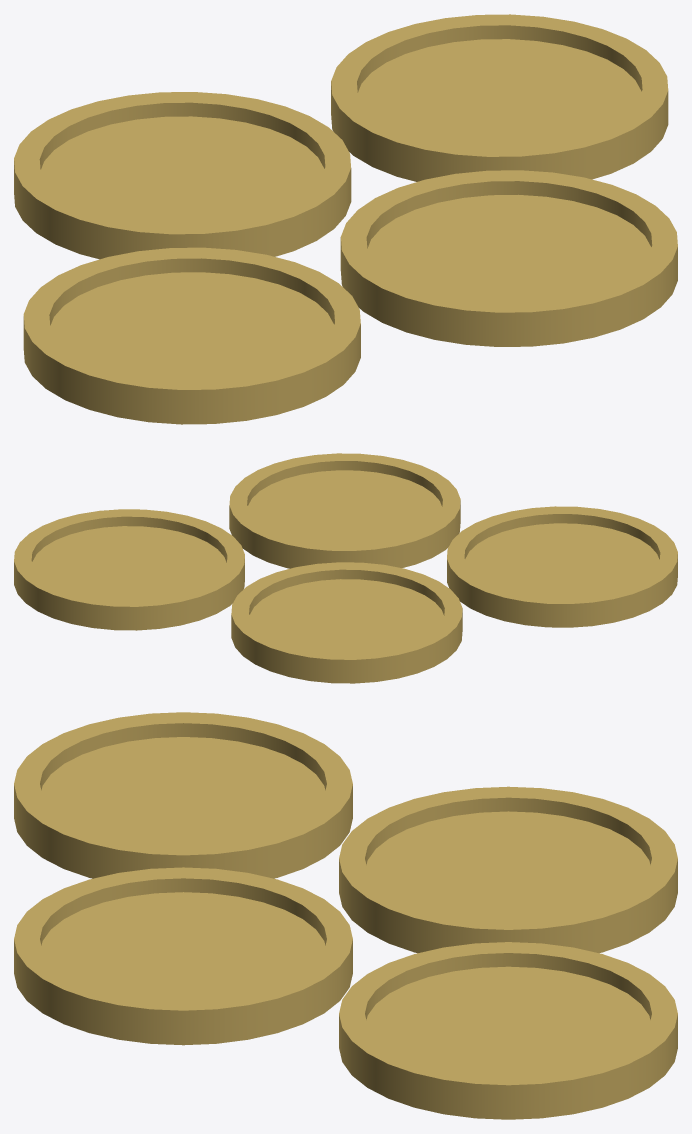
The model's file is SM_CoasterSet.fbx.
3 renders of one model, top to bottom at view 1: azimuth 30°, elevation 25°; view 2: azimuth 150°, elevation 25°; view 3: azimuth 270°, elevation 25°, orthographic. The views are drawn at different scales.
Parts seen in each view (by area): view 1: SM_CoasterSet; view 2: SM_CoasterSet; view 3: SM_CoasterSet.
Part boxes in pixels (bbox=[...]): SM_CoasterSet: bbox=[14, 14, 677, 424]; SM_CoasterSet: bbox=[14, 453, 677, 683]; SM_CoasterSet: bbox=[14, 712, 677, 1119].
Size of the model in its own units: 23.18 by 1 by 17.43.
